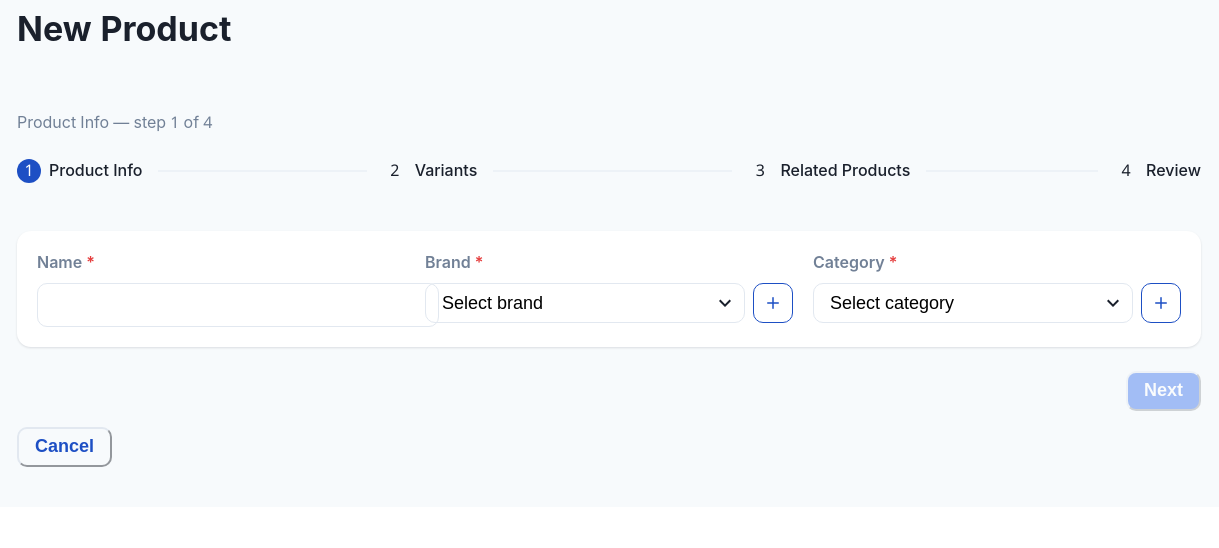
Test case: ProductVariantsForm › blocks advancing past the Variants step when a row has no variant type
Type "Serum" into the field labelled "Name*".
click(238, 305); type("Serum")  # box [37,283,439,327]
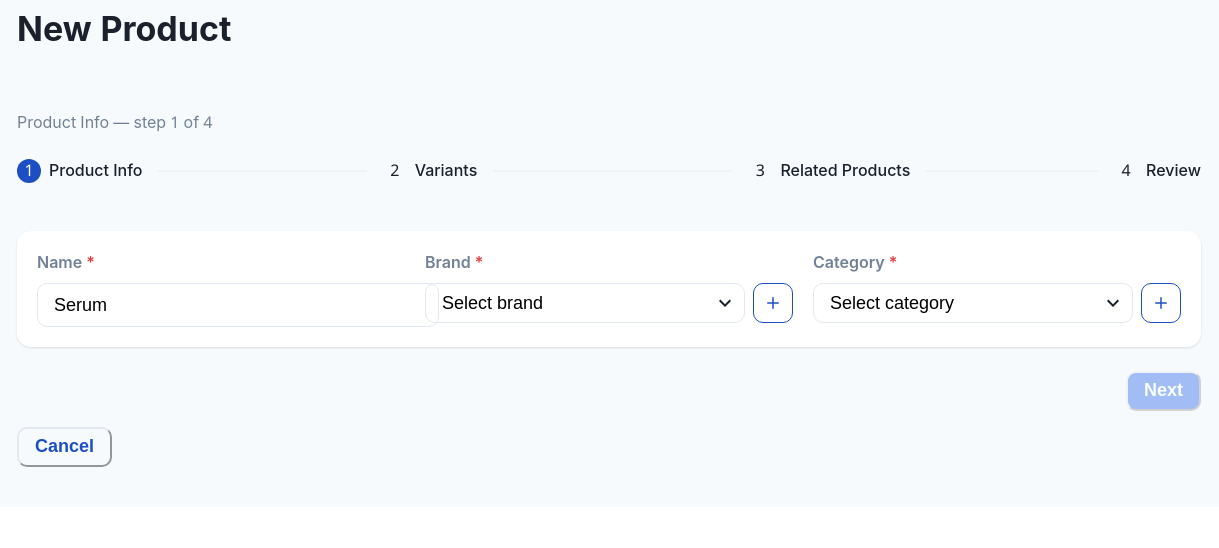
Select "Chanel" in the dropdown labelled "Brand*" at [585, 303], box [425,283,745,323]
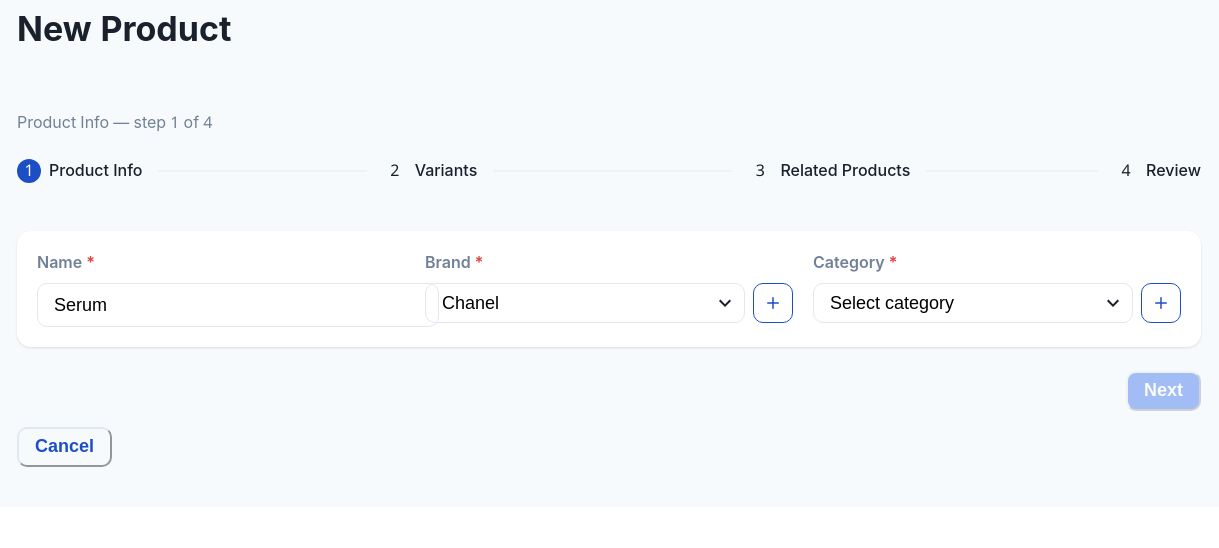
Select "Skincare" in the dropdown labelled "Category*" at [973, 303], box [813,283,1133,323]
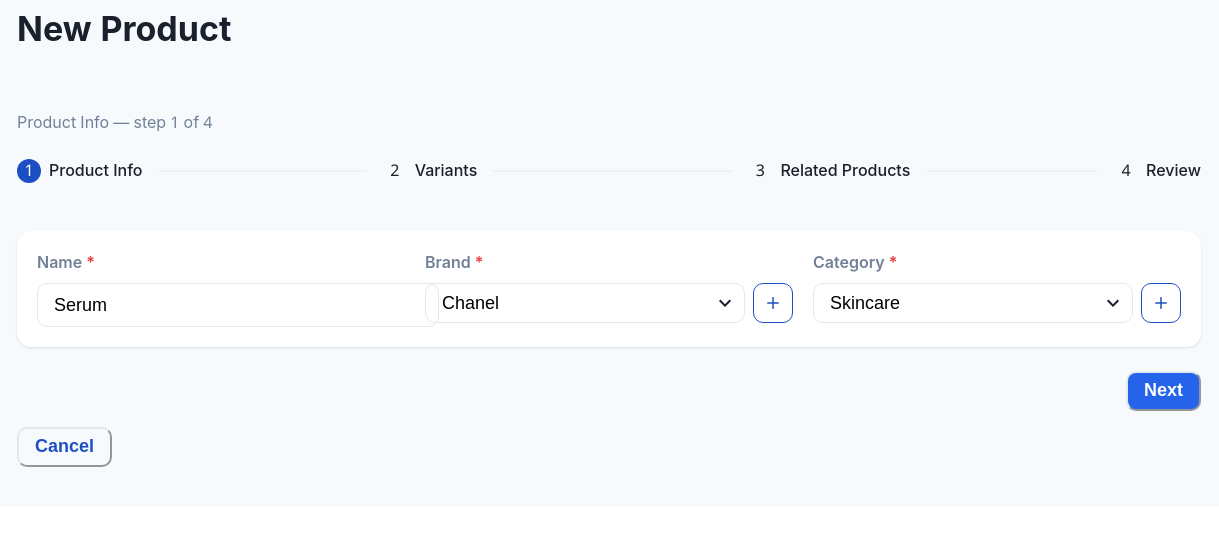
Click the button "Next".
click(1164, 391)  # box [1126,371,1201,411]
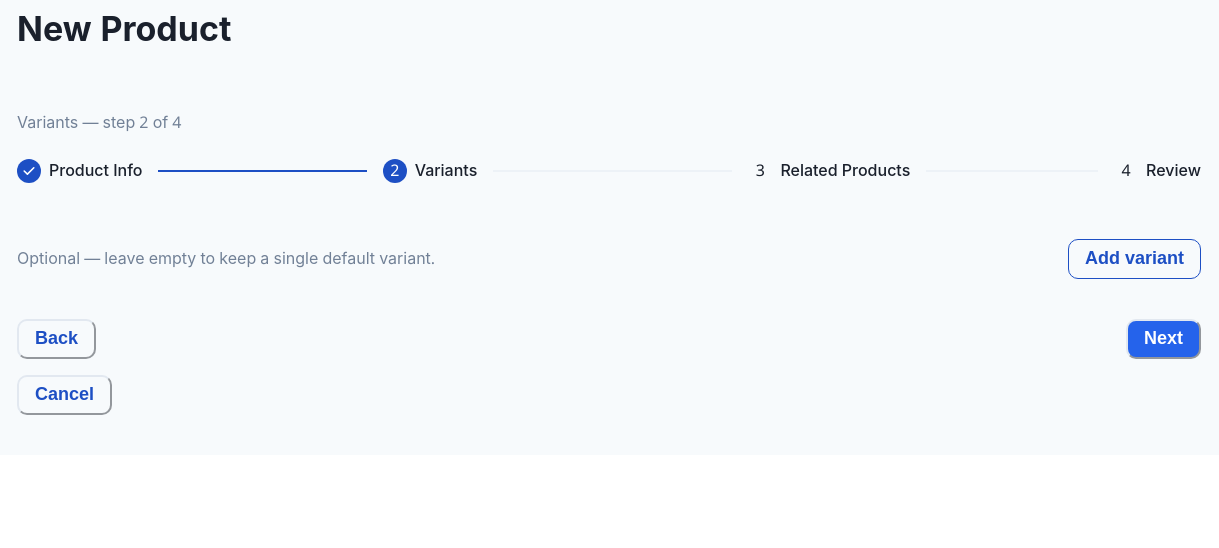
Click the button "Add variant".
click(1134, 259)  # box [1068,239,1201,279]
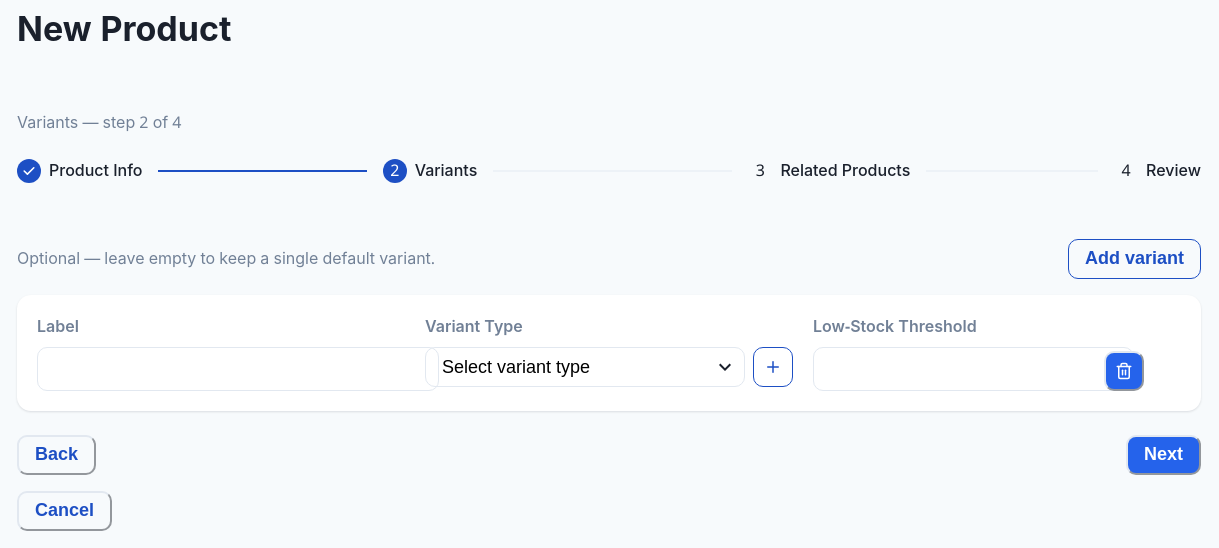
Type "50ml" into the field labelled "Label".
click(238, 369); type("50ml")  # box [37,347,439,391]
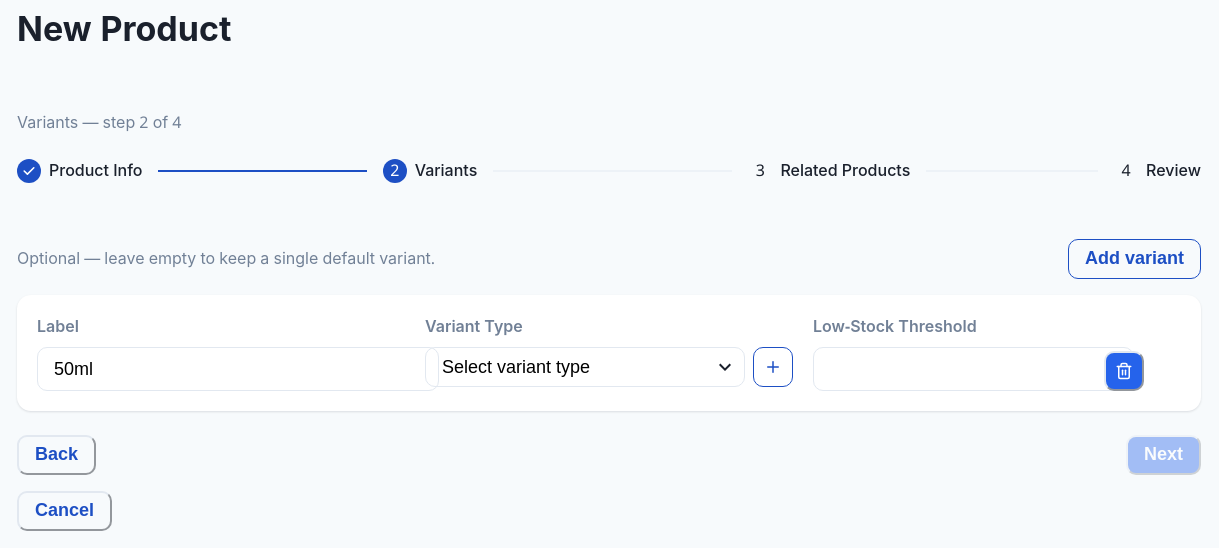
expect the button "Next" is disabled: met, box [1126,435,1201,475]
